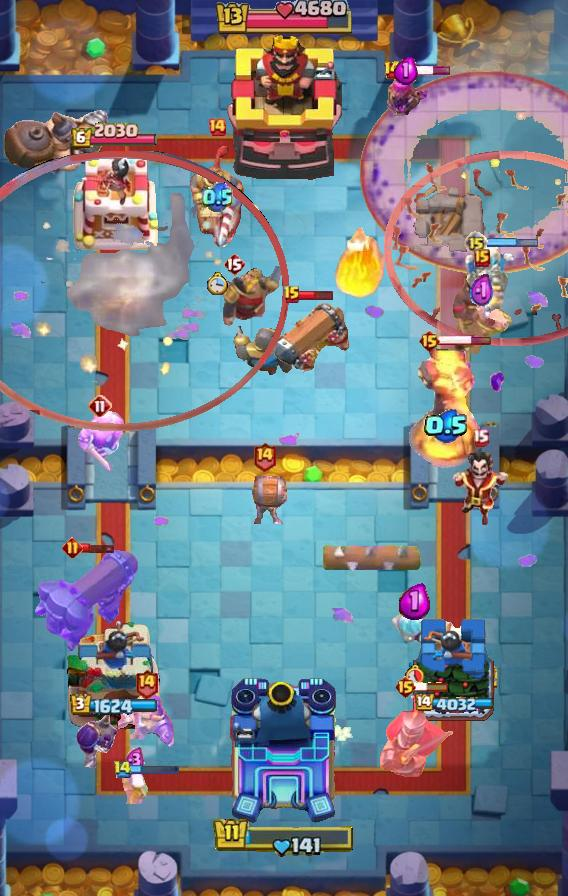archer: (76, 410, 124, 472)
bat: (391, 611, 437, 645)
battle-healer: (267, 299, 349, 383)
clock: (213, 818, 355, 859), (213, 0, 355, 38)
electro-dragon: (407, 343, 485, 471)
electro-spirit: (423, 409, 468, 443), (398, 583, 429, 621), (203, 182, 233, 213), (470, 273, 494, 311), (394, 55, 418, 85), (125, 746, 145, 773)
elixir: (208, 272, 229, 295), (404, 664, 423, 686)
emote: (129, 763, 181, 777), (399, 64, 453, 76), (486, 237, 537, 249), (438, 334, 492, 345), (298, 289, 334, 301), (80, 542, 116, 554), (414, 681, 450, 693)
evolution-symbol: (382, 69, 430, 131)
firecracker: (223, 266, 281, 326), (231, 326, 293, 376)
firecracker-evolution: (118, 694, 174, 750)
freeze: (449, 268, 515, 354)
furnace: (33, 546, 141, 656)
goblin-ball: (76, 705, 120, 771)
heal-spirit: (121, 772, 149, 804)
king-tower: (226, 33, 342, 181), (228, 676, 340, 826)
knight: (240, 476, 288, 524)
lumberjack: (449, 452, 511, 528)
mini-pekka: (462, 239, 518, 323)
minion: (318, 540, 422, 574)
queen-tower: (65, 617, 163, 731), (409, 616, 497, 731), (68, 150, 160, 256)
ram-rider: (187, 141, 247, 251)
rocket: (360, 70, 568, 274)
royal-ghost: (0, 151, 288, 431)
selected: (70, 122, 158, 150), (70, 692, 158, 715), (413, 694, 493, 714)
skeleton-barrel: (384, 149, 568, 347)
text: (252, 441, 277, 472), (133, 669, 158, 700), (464, 231, 488, 255), (88, 394, 112, 418), (418, 329, 441, 353), (395, 675, 418, 699), (223, 252, 245, 276), (62, 537, 83, 559), (207, 117, 227, 137), (383, 60, 402, 80), (283, 285, 301, 305), (113, 761, 132, 779), (471, 428, 488, 447), (474, 249, 490, 267)
valkyrie: (332, 213, 392, 303)
wall-breaker-evolution: (378, 689, 456, 777)
wizard: (0, 107, 112, 177)
